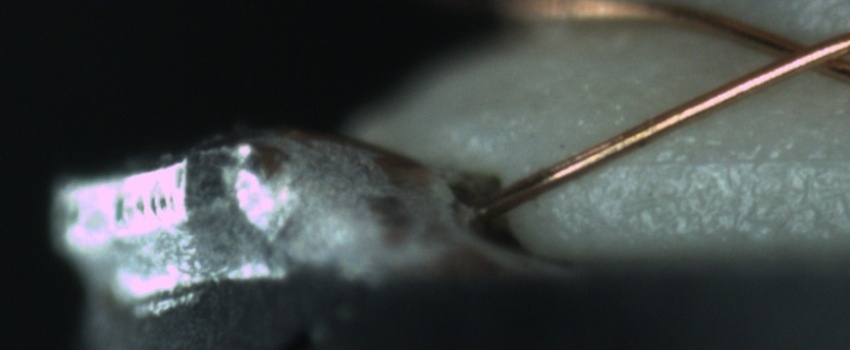CL: (751, 26, 849, 83)
DL: (625, 127, 849, 189)
